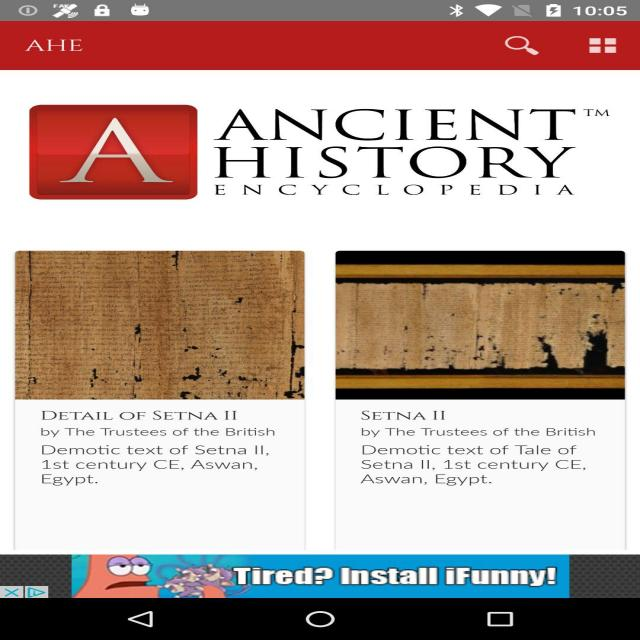button: (331, 246, 625, 557), (12, 248, 309, 555), (0, 555, 640, 600), (13, 34, 95, 59), (490, 29, 551, 58), (581, 35, 624, 59), (1, 582, 24, 600), (26, 587, 54, 599)
icon: (20, 35, 90, 57), (494, 31, 547, 58), (584, 36, 622, 56), (0, 585, 23, 598), (26, 587, 46, 600)
image: (333, 249, 629, 403), (16, 249, 304, 400), (68, 554, 570, 600), (27, 103, 200, 202)
text: (213, 106, 617, 200), (35, 406, 285, 499), (351, 407, 596, 498)
